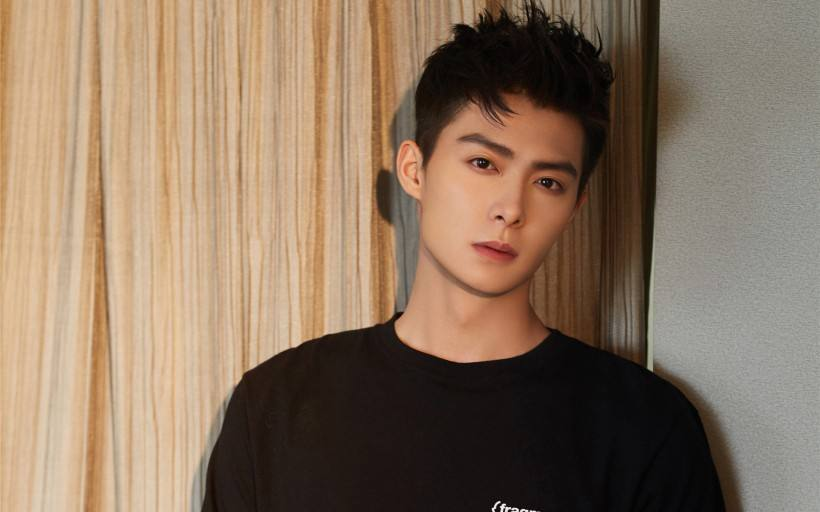person: (347, 46, 694, 417)
